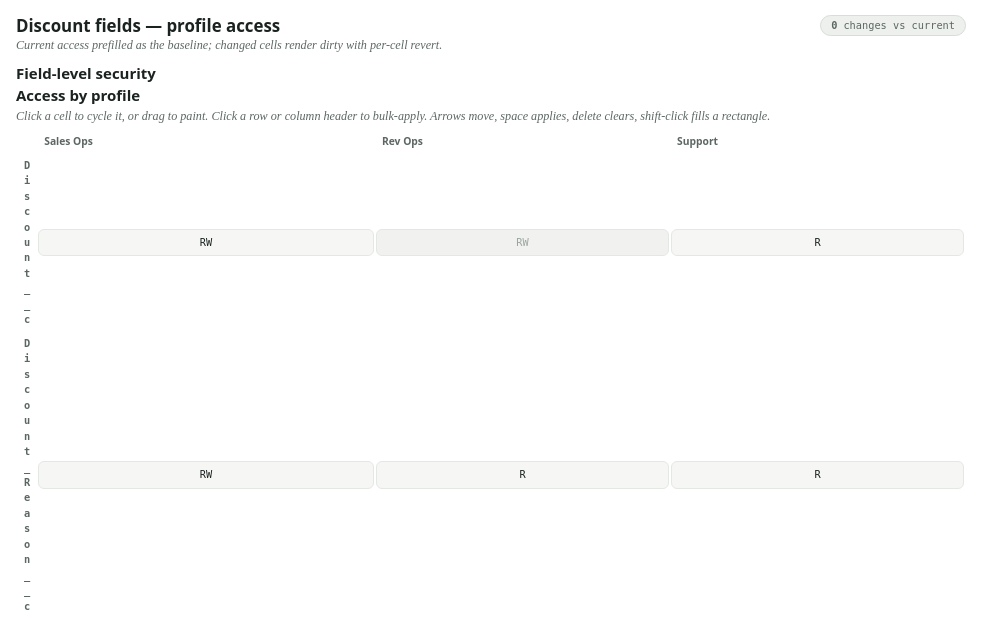
Scenario: diff against the existing baseline (§4.7/§5.5) › reverts one cell to the baseline — untouched, not empty
Press the mouse on the 1st button "R" at (818, 243), box x1=671 y1=229 x2=964 y2=256
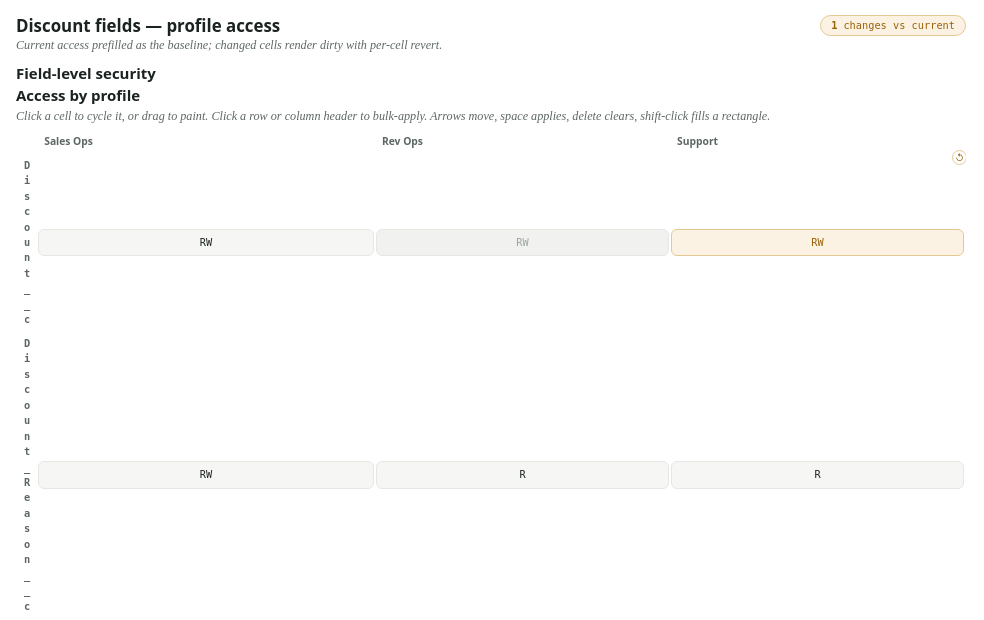
Click the button named "Revert Discount__c · Support" at (960, 157), box x1=952 y1=150 x2=967 y2=165
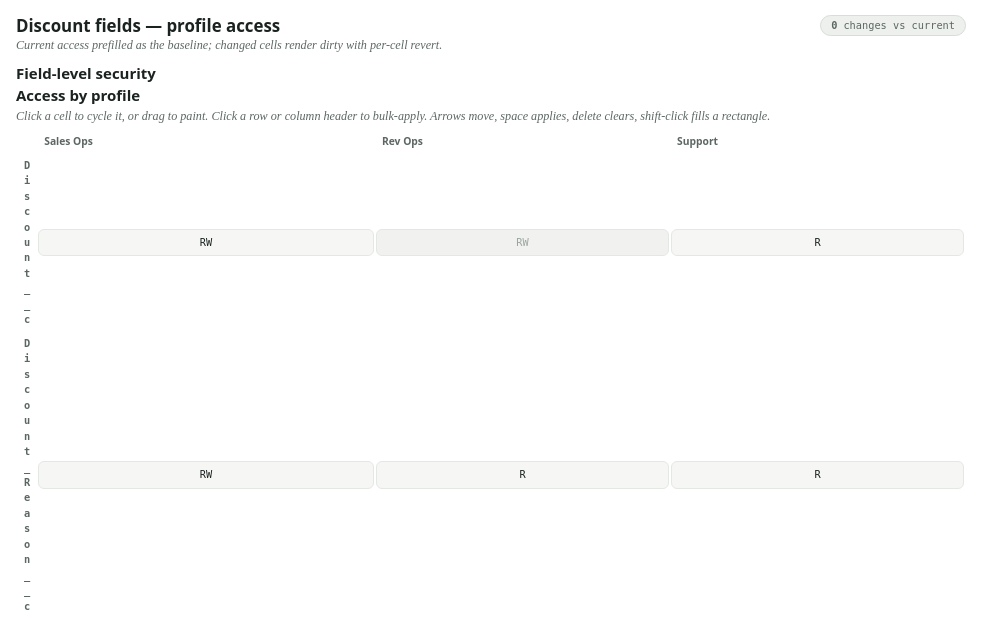
Check: the 1st button "R" is shown, box x1=671 y1=229 x2=964 y2=256
Check: the element labelled "0 changes vs current" is shown, box x1=820 y1=15 x2=966 y2=36
